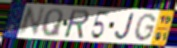5: (90, 10, 110, 40)
G: (132, 13, 158, 43)
J: (114, 12, 136, 41)
N: (16, 6, 47, 37)
Q: (40, 8, 65, 39)
R: (64, 8, 91, 40)
